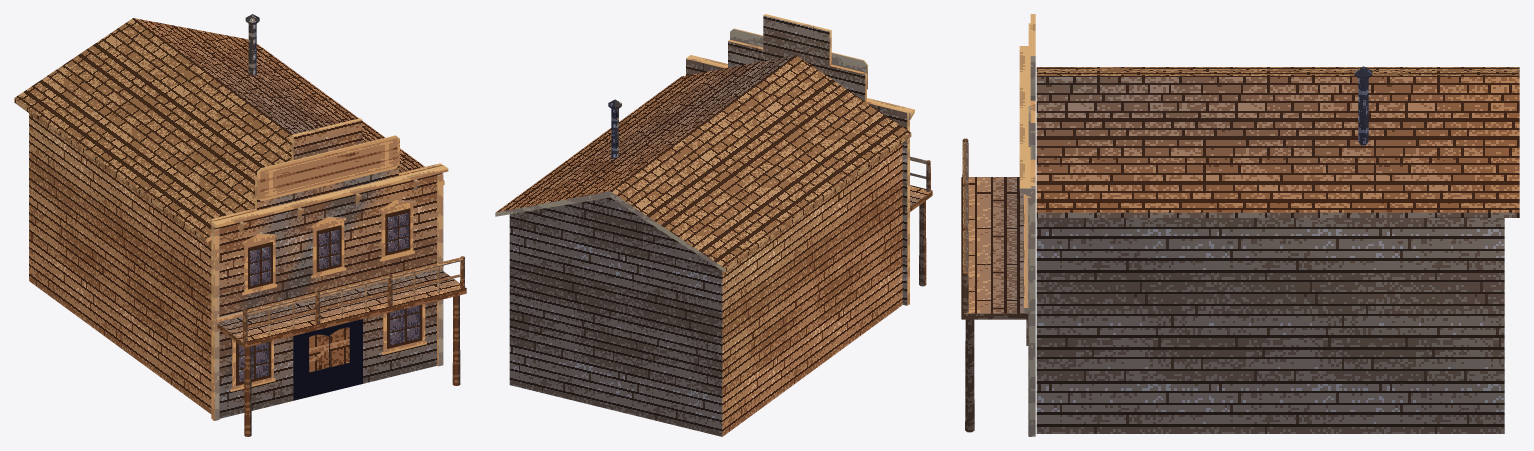
Rendered from wtown.saloon__entry.glb.
The picture shows the model from 3 angles, left to right: view 1: azimuth 30°, elevation 25°; view 2: azimuth 150°, elevation 25°; view 3: azimuth 270°, elevation 25°; orthographic projection. The views are drawn at different scales.
Parts seen in each view (by area): view 1: kit_roof, kit_body, kit_front, kit_card_panes, kit_balcony, kit_trim, kit_windows, kit_door, kit_stovepipe; view 2: kit_body, kit_roof, kit_front, kit_trim, kit_balcony, kit_stovepipe; view 3: kit_body, kit_roof, kit_balcony, kit_trim, kit_front, kit_stovepipe.
Part boxes in pixels (box(x1,y1,x2,y2)): kit_roof: box(14, 18, 444, 242); kit_body: box(29, 113, 399, 413); kit_front: box(211, 118, 442, 419); kit_card_panes: box(236, 138, 422, 400); kit_balcony: box(217, 256, 466, 436); kit_trim: box(211, 135, 448, 420); kit_windows: box(230, 199, 426, 391); kit_door: box(309, 327, 349, 372); kit_stovepipe: box(245, 14, 259, 75); kit_body: box(509, 143, 902, 436); kit_roof: box(495, 55, 911, 272); kit_front: box(686, 14, 909, 305); kit_trim: box(686, 28, 914, 304); kit_balcony: box(910, 156, 932, 286); kit_stovepipe: box(608, 99, 621, 158); kit_body: box(1036, 218, 1504, 433); kit_roof: box(1036, 67, 1519, 217); kit_balcony: box(961, 138, 1028, 432); kit_trim: box(1019, 23, 1031, 436); kit_front: box(1030, 14, 1035, 436); kit_stovepipe: box(1354, 66, 1372, 145).
Bounding box in the file's own units: 8.1 × 8.7 × 13.12.
Materials: 12 (12 with a texture image).
